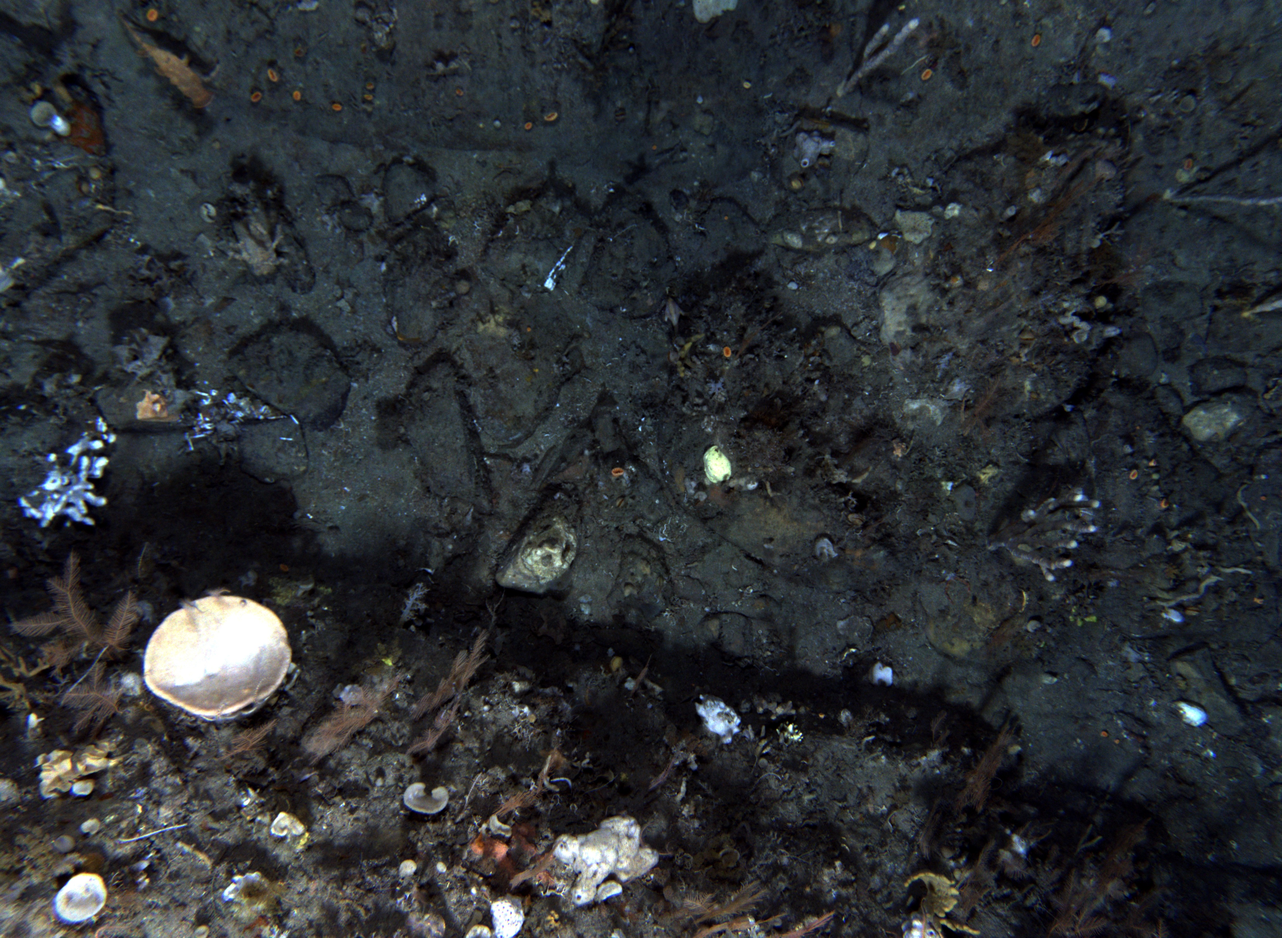Brachionichthyidae: (663, 297, 688, 338)
